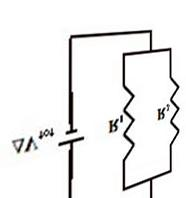resistor: (119, 80, 141, 162), (167, 73, 181, 148)
